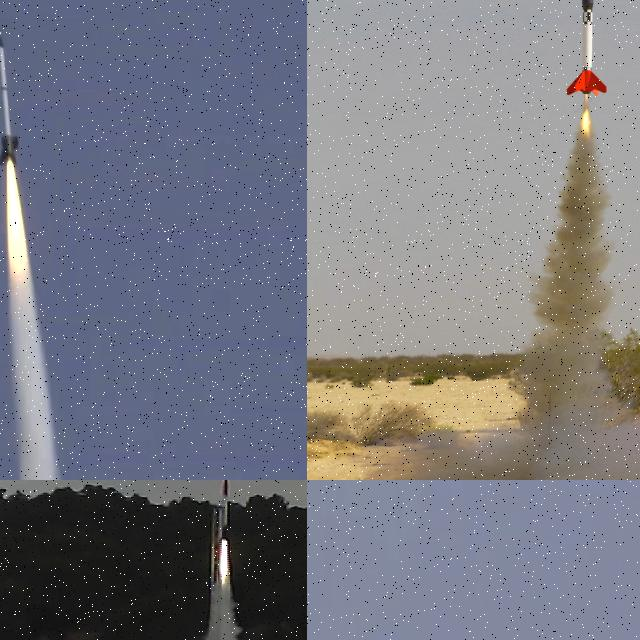Rocket: (565, 0, 608, 97), (0, 30, 19, 165), (218, 480, 230, 540)
